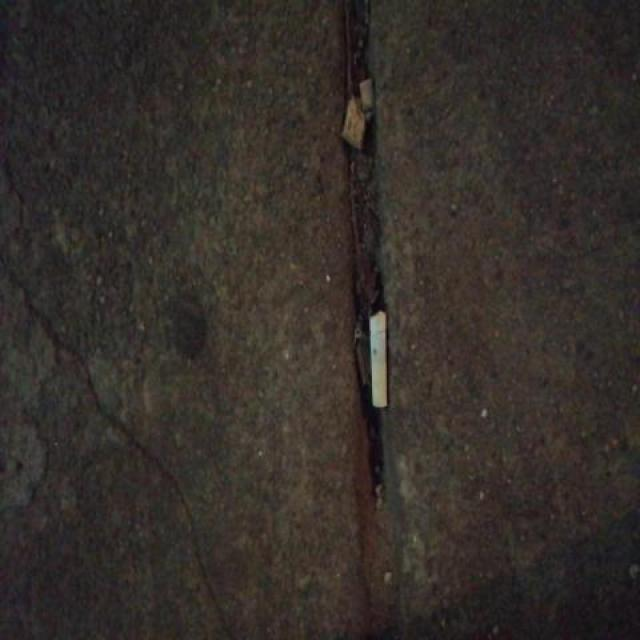non-organic waste: (367, 306, 389, 411)
